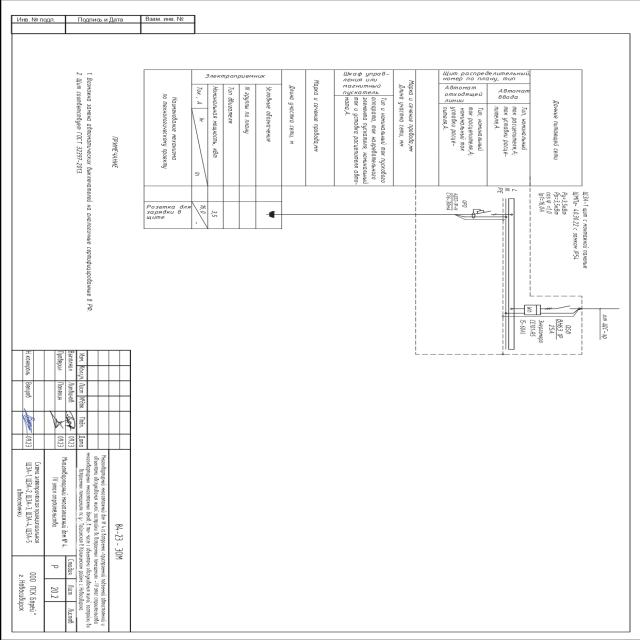-: (570, 190, 590, 270), (517, 319, 545, 343), (546, 318, 564, 342), (444, 191, 458, 211)
QFD: (469, 208, 492, 221)
QS: (555, 304, 571, 310)
WH: (522, 304, 540, 316)
